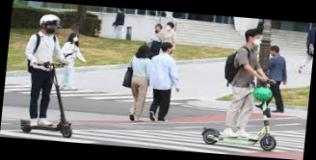helmet: (16, 11, 87, 140)
nonhelmet: (199, 23, 289, 151)
